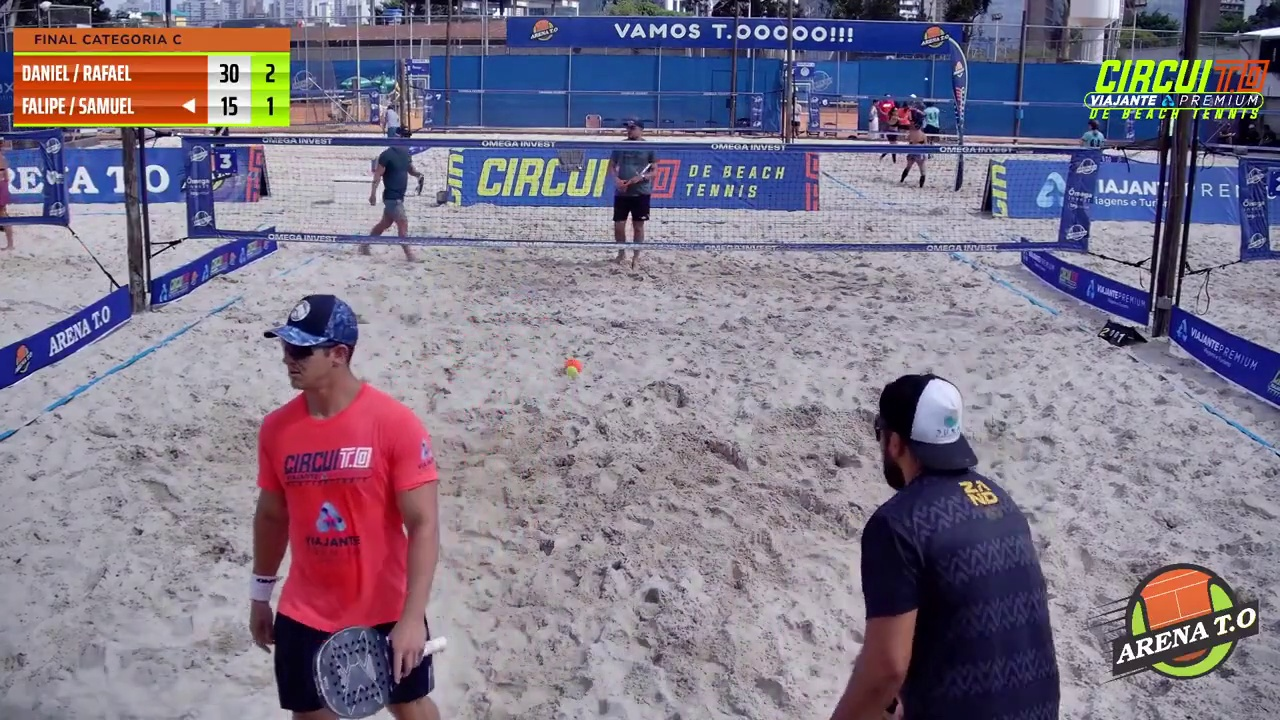court_line: (403, 0, 590, 494), (647, 0, 803, 348), (547, 0, 665, 384)
